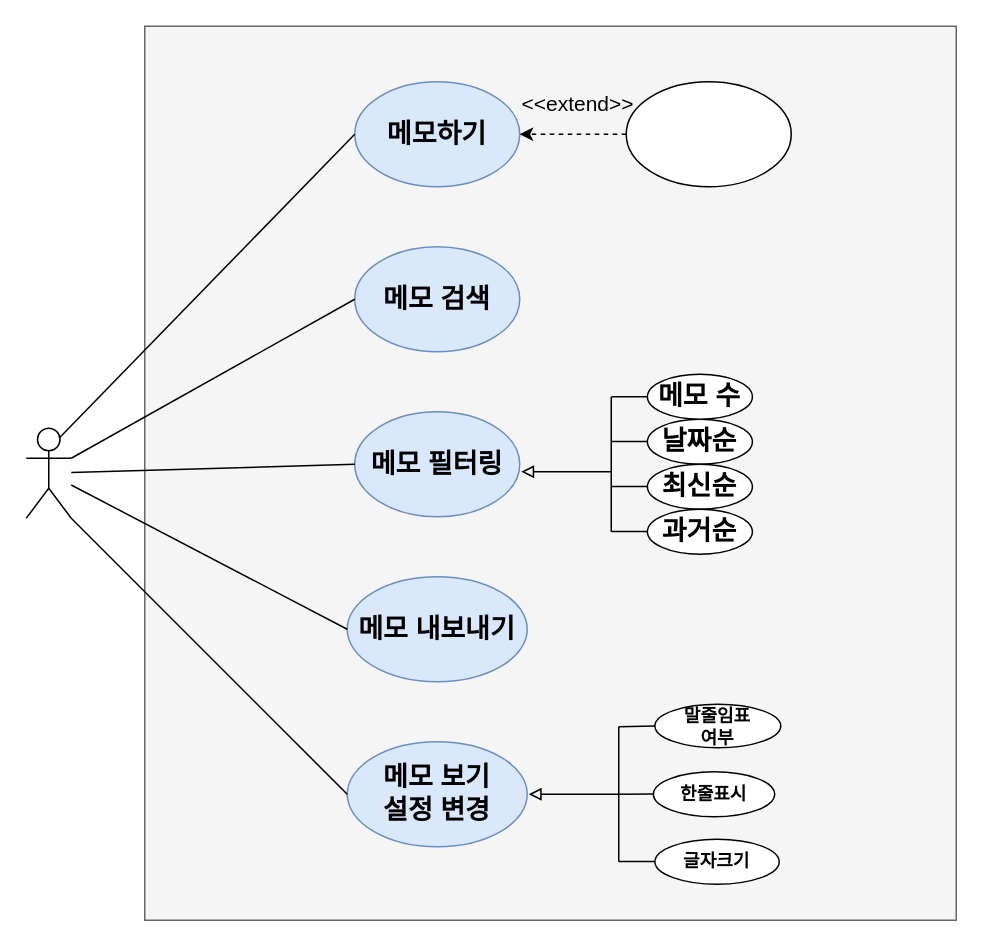
Image size: 983x947. Some labels were removed from this diagram. The box of each missing label's shape, as (x1, y1, x2, y2) in pixels:
Actor: (25, 427, 71, 518)
사진첨부: (625, 80, 791, 187)
